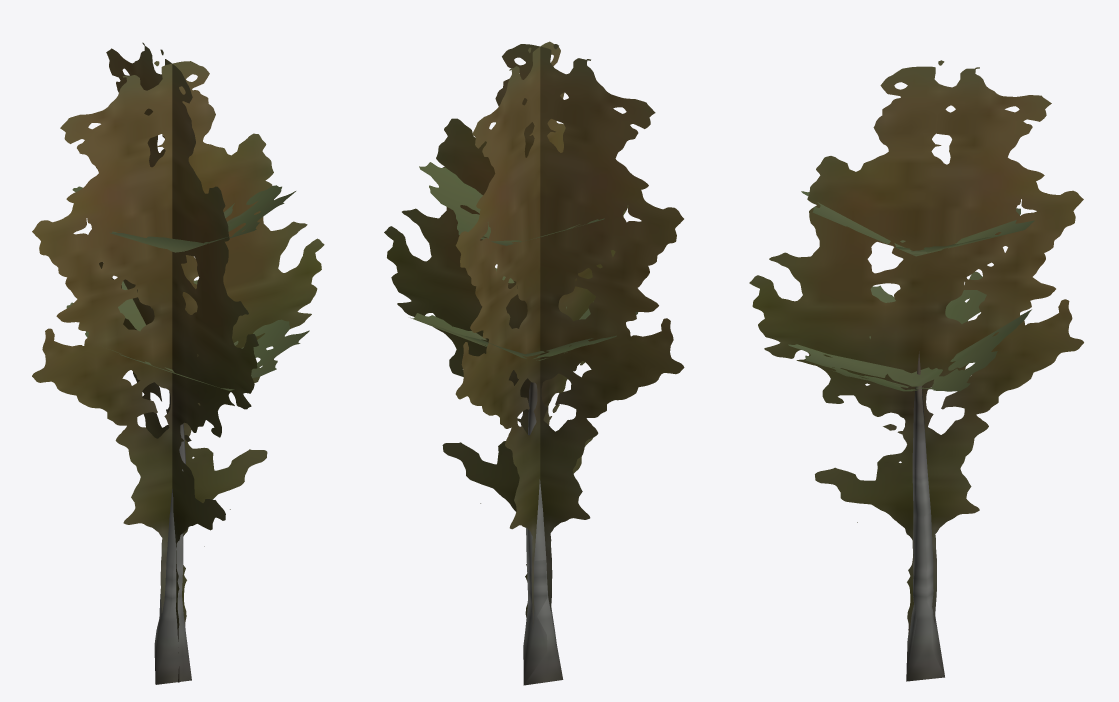
File: tree_leaf_lo.glb
The picture shows the model from 3 angles, left to right: view 1: azimuth 30°, elevation 25°; view 2: azimuth 150°, elevation 25°; view 3: azimuth 270°, elevation 25°; orthographic projection. The views are drawn at different scales.
Parts seen in each view (by area): view 1: leaves; view 2: leaves; view 3: leaves.
Boxes of the visible parts, x1,y1,x2,y2 form: leaves: (32, 42, 324, 684); leaves: (384, 41, 684, 685); leaves: (749, 60, 1083, 681).
Size of the model in its own units: 0.6882 by 1.28 by 0.6882.
1 material, 1 textured.
